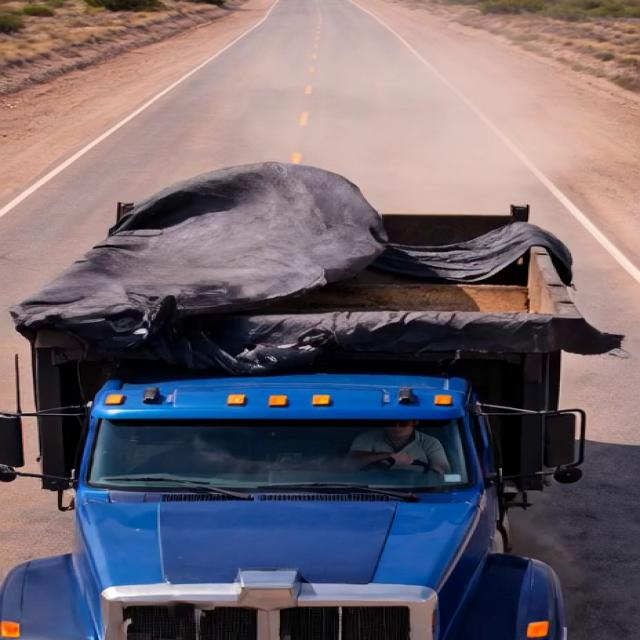trailer: (26, 160, 590, 364)
truck: (14, 126, 598, 634)
